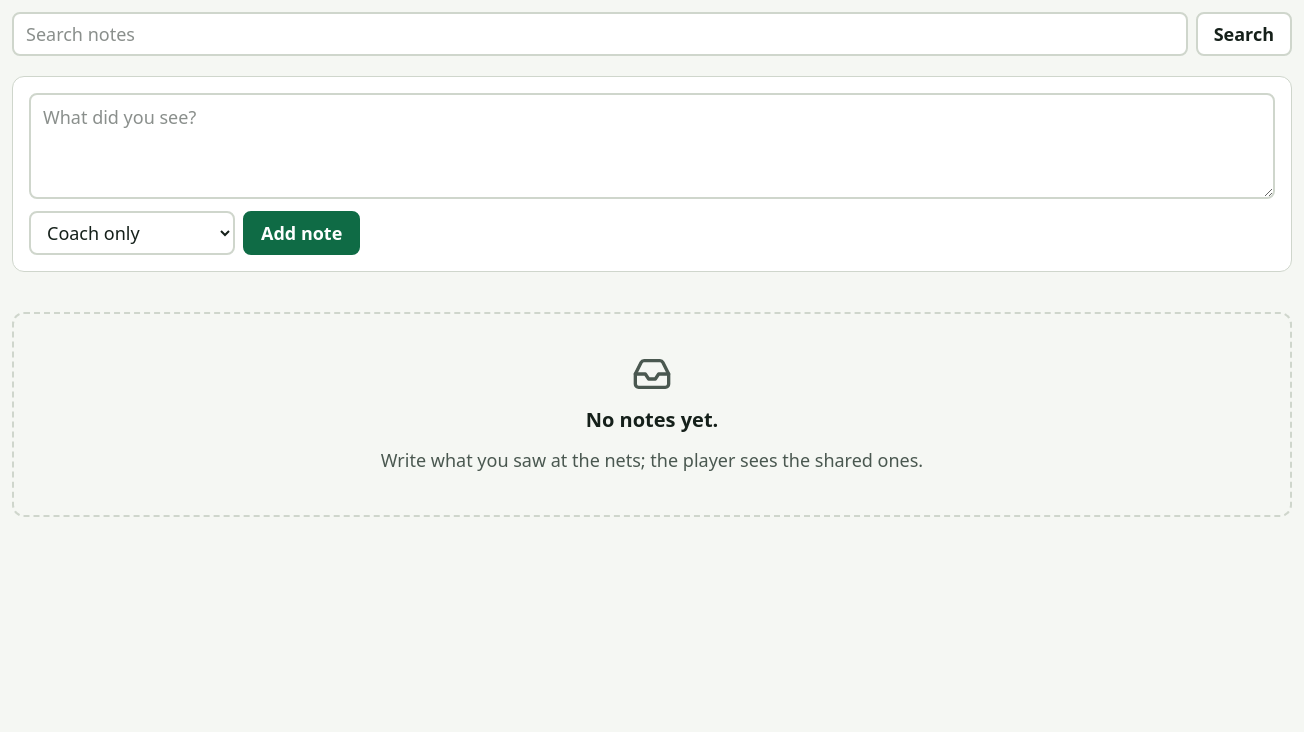
Test: NotesPanel › surfaces create failures
Expected: the element with test id "notes-empty" is shown, [12,312,1292,517]
Type "x" into the text box named "Note body" at (652, 146), box [29,93,1275,199]
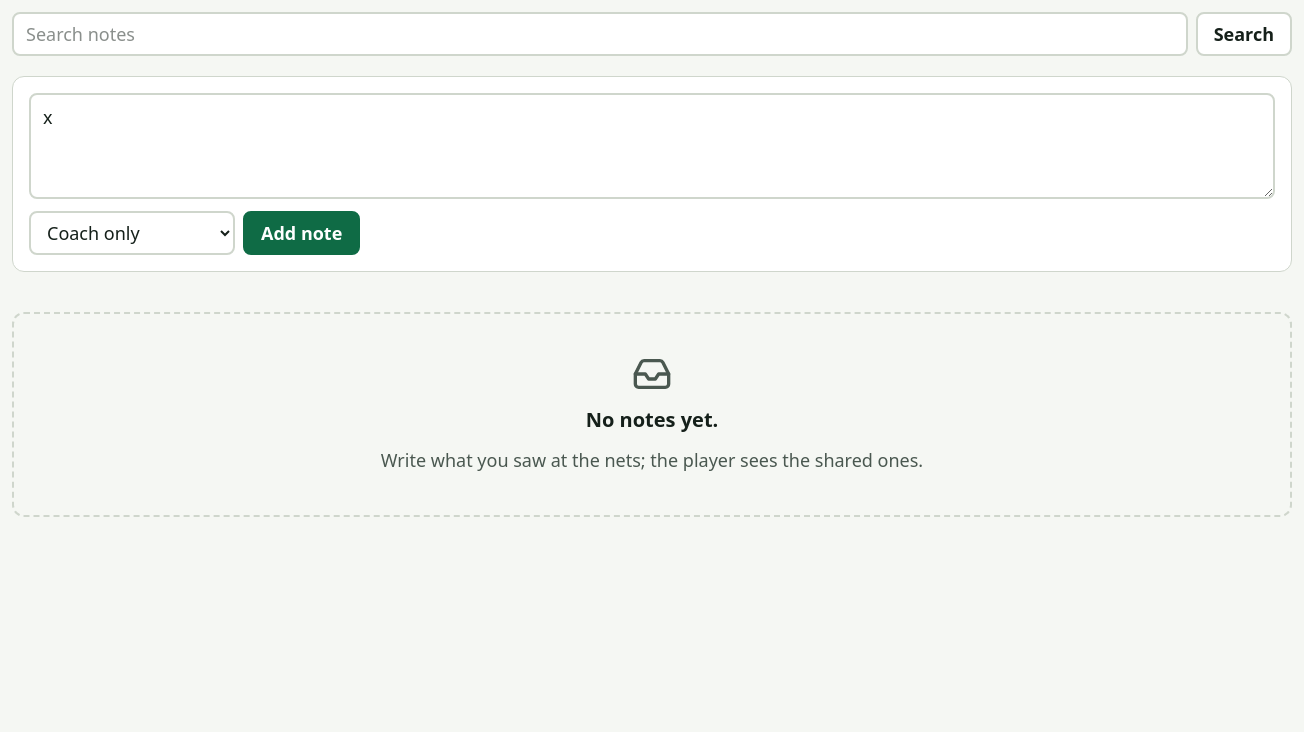
Submit the form "Add note", box [12,76,1292,272]
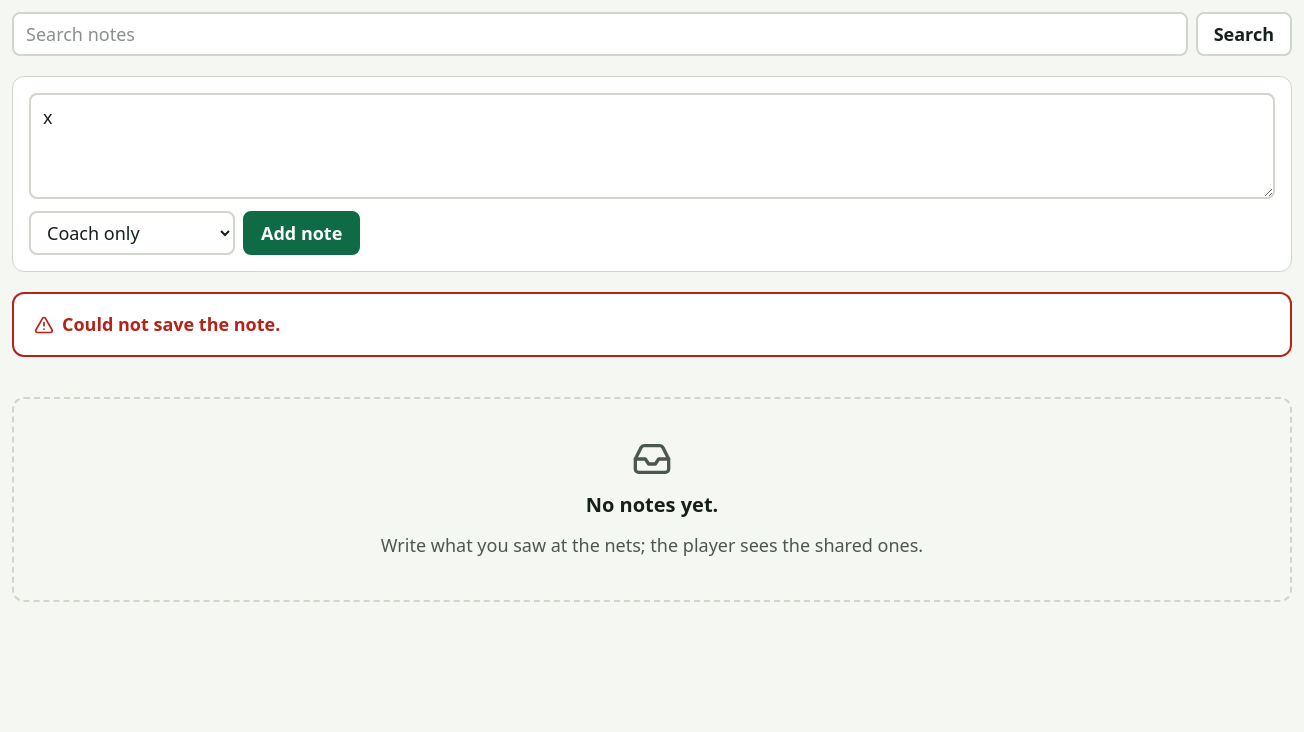
Expected: the message reads "Could not save the note.", [62,312,280,336]
